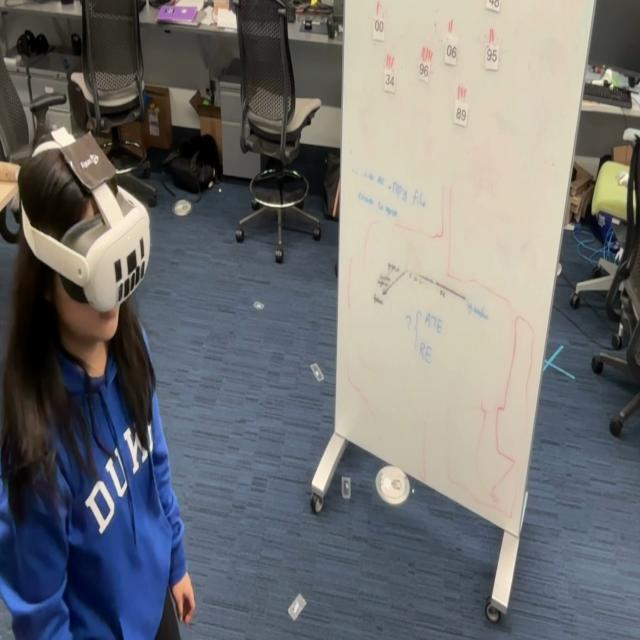Headset: (17, 128, 151, 314)
UnityLogo: (53, 124, 118, 195)
